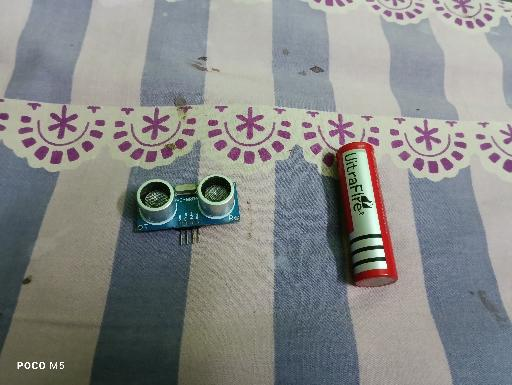Battery: (336, 141, 399, 289)
sensor: (133, 174, 242, 247)
